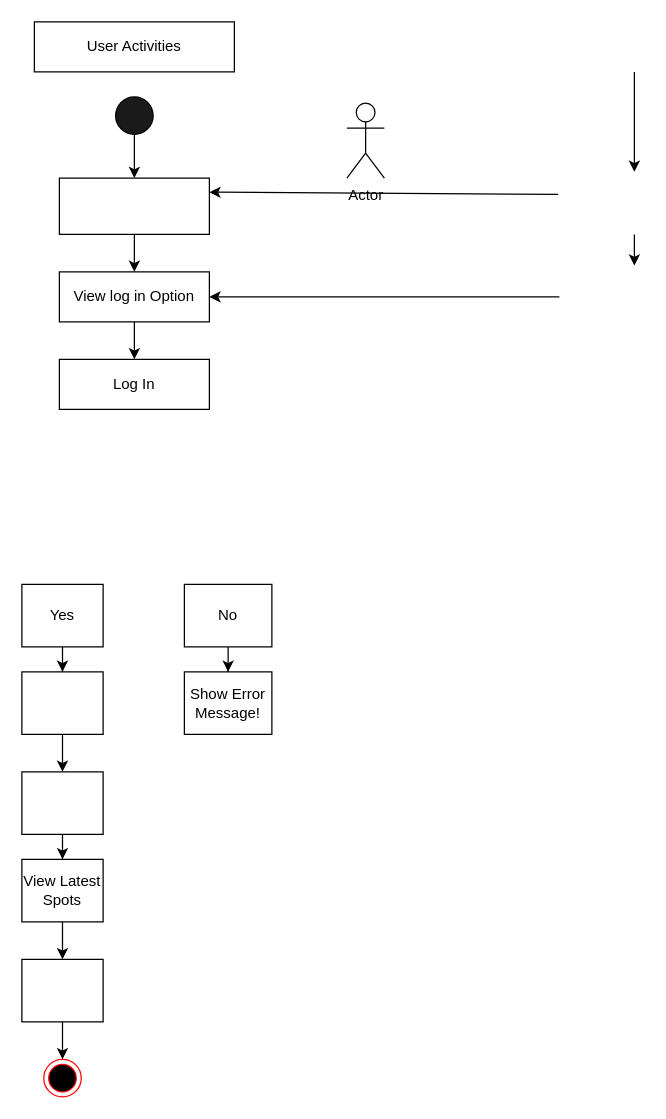
Image size: 666x1119. Some labels were removed from this diagram. The box of each missing label's shape, as (x1, y1, x2, y2) in pixels:
Open Home Page: (58, 177, 209, 234)
Search for Spots: (21, 771, 103, 834)
Select a Spot: (21, 958, 103, 1022)
View Menu: (21, 671, 103, 734)
